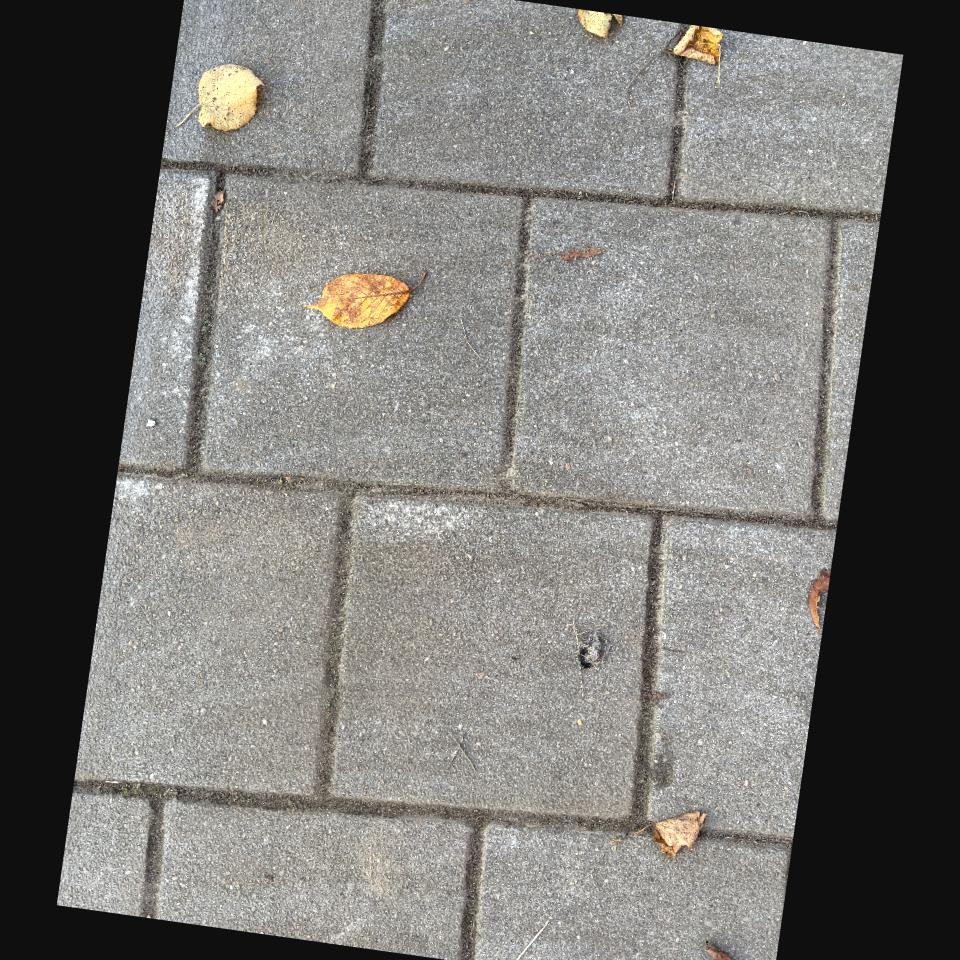weed: (198, 352, 207, 368), (202, 326, 205, 331), (204, 320, 208, 323), (207, 349, 209, 351)
